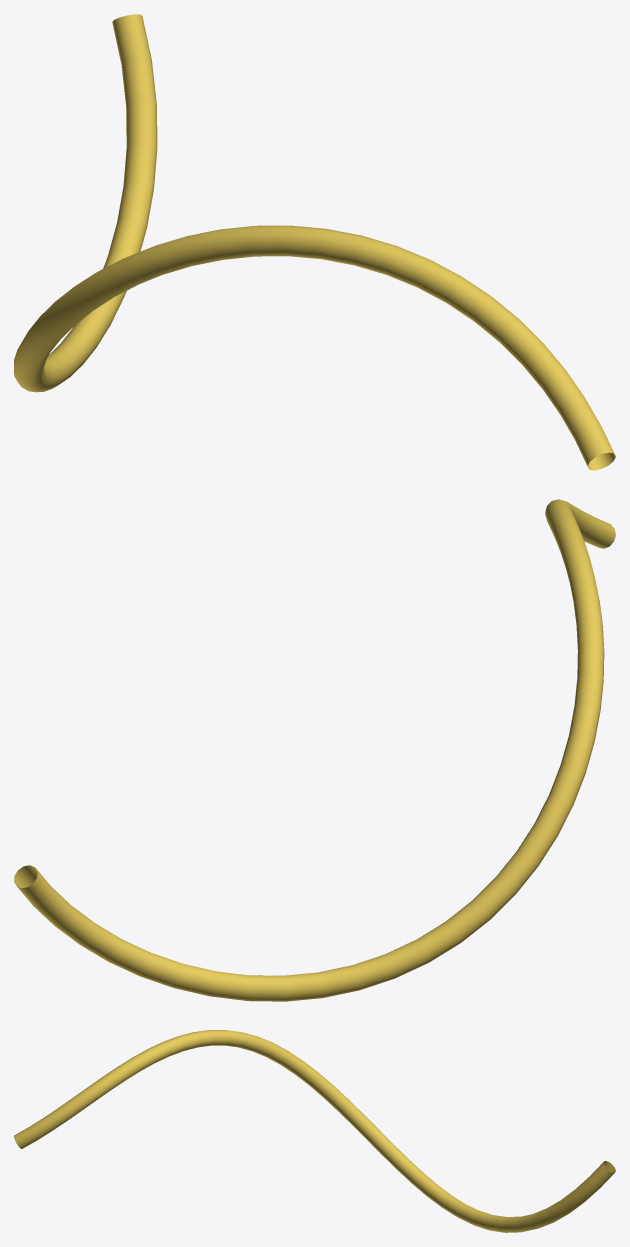
The model's file is re_blue.obj.
The picture shows the model from 3 angles, top to bottom: view 1: azimuth 30°, elevation 25°; view 2: azimuth 150°, elevation 25°; view 3: azimuth 270°, elevation 25°; orthographic projection. The views are drawn at different scales.
Visible parts, largest first — view 1: Helix001; view 2: Helix001; view 3: Helix001.
Boxes of the visible parts, x1,y1,x2,y2 form: Helix001: (14,14,615,470); Helix001: (14,499,615,1001); Helix001: (14,1030,615,1232).
Bounding box in the file's own units: 14.06 × 12.26 × 37.83.
